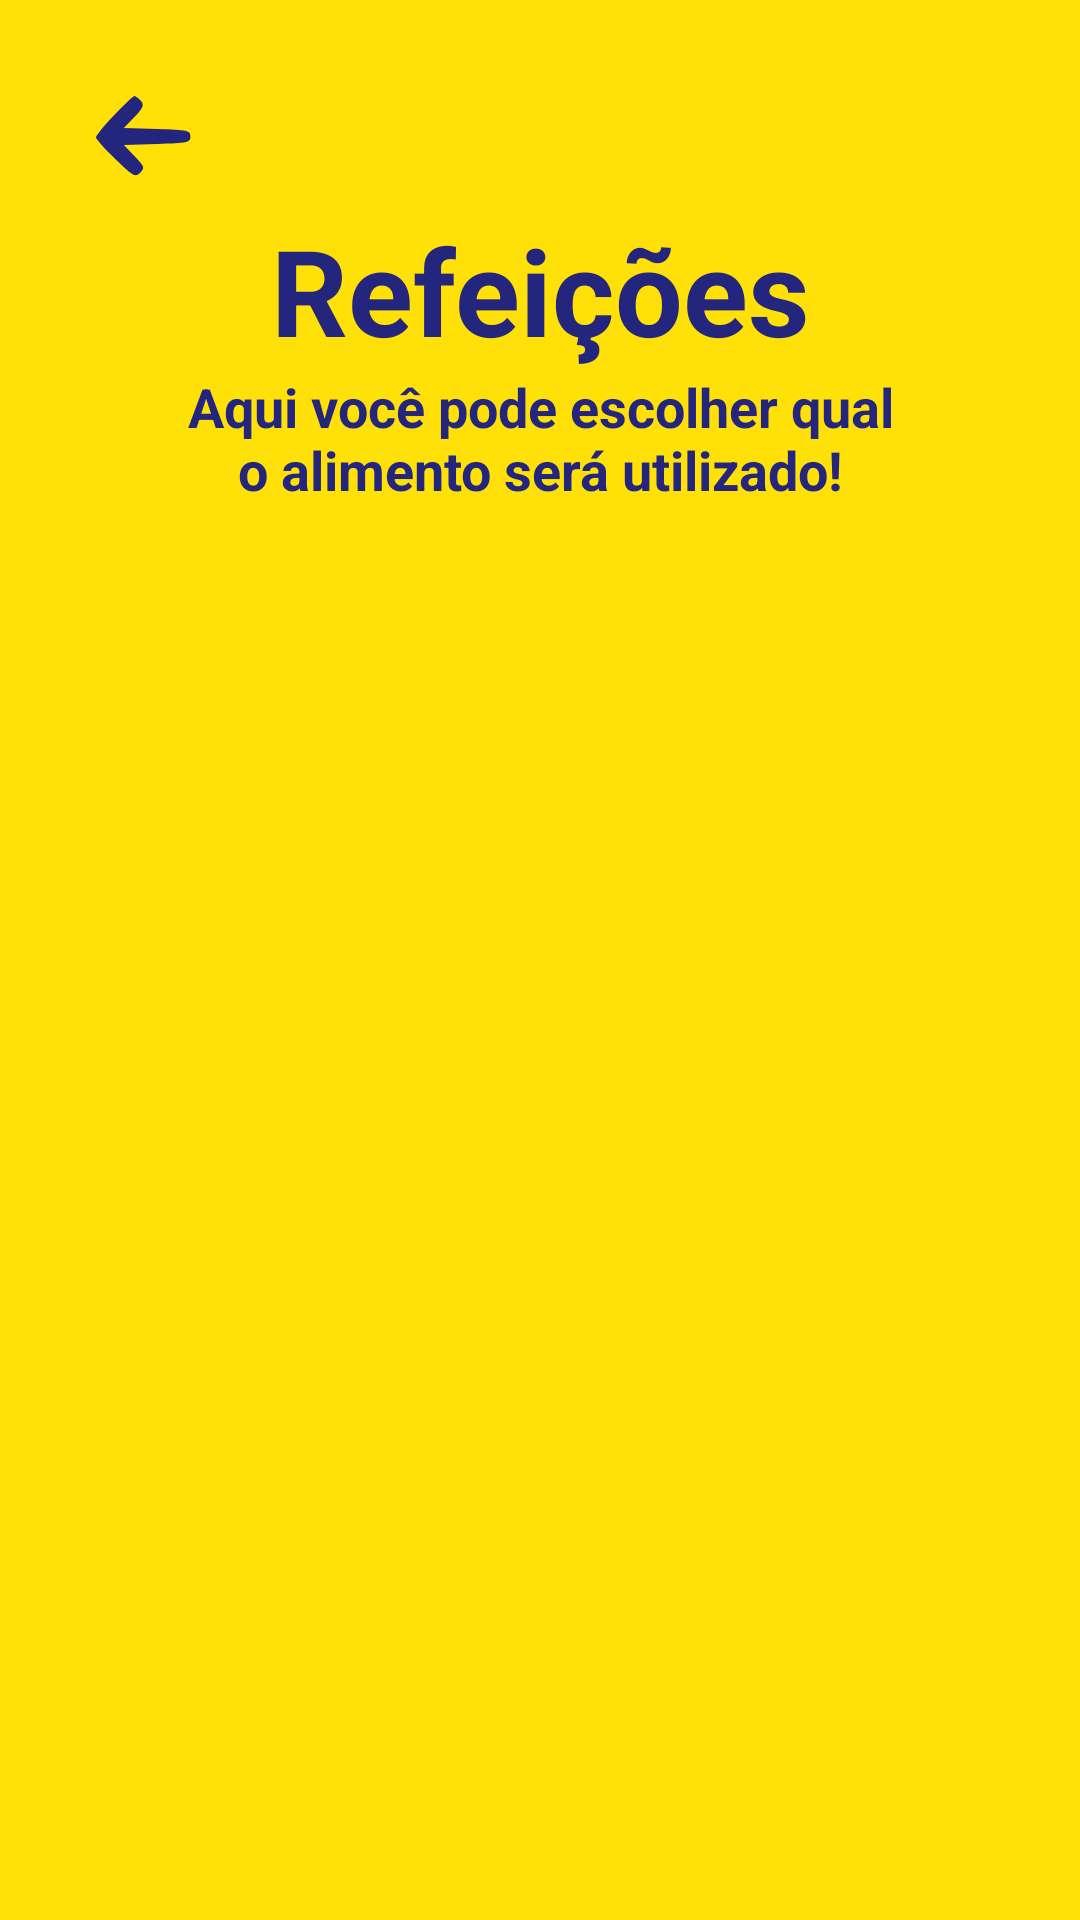

Icons on this 1080*1920 Android screen, each with the point to tap as (x,y):
arrow: (143,136)
